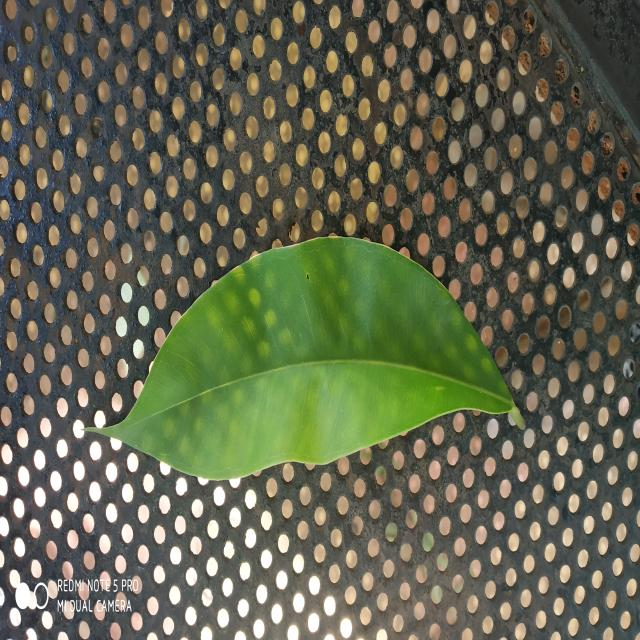nerale: (102, 238, 524, 480)
